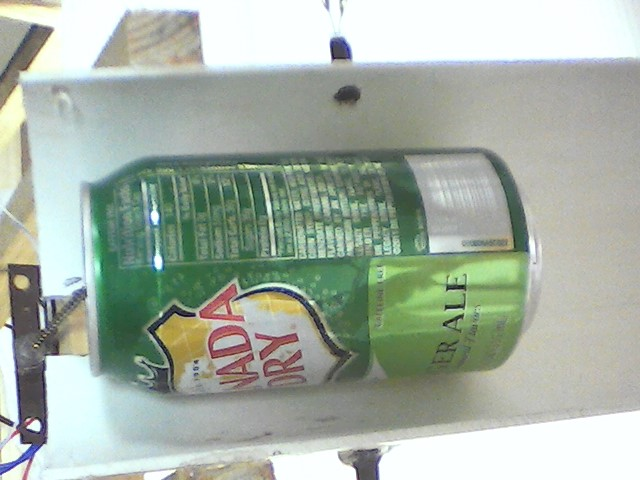lata: (77, 144, 544, 399)
